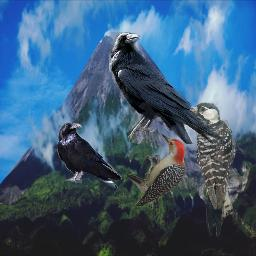Crow: (109, 32, 227, 144), (57, 122, 122, 188)
Woodpecker: (179, 102, 247, 239), (127, 133, 188, 206)
